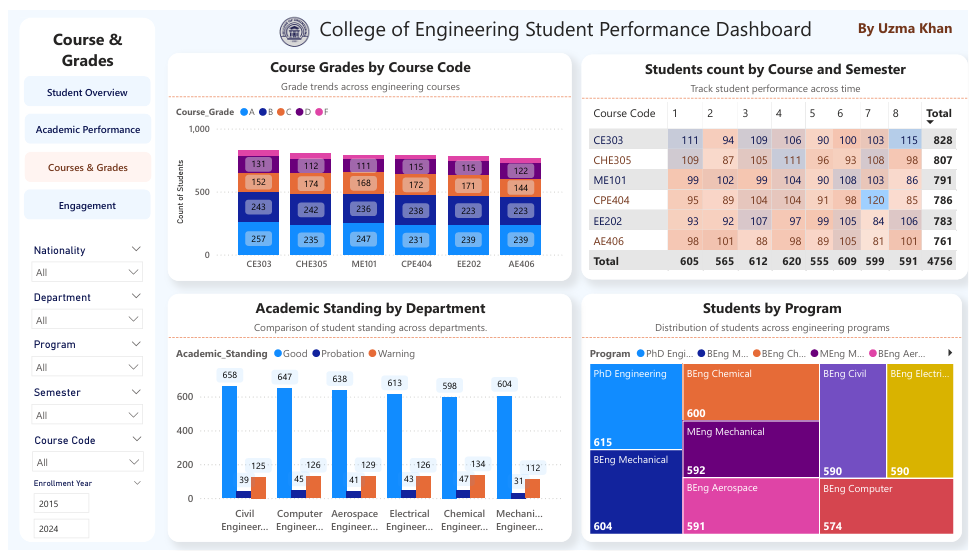

The page's visual inventory and layout, read from the dashboard file:
{"tool":"powerbi","page":{"name":"Courses & Grades","canvas":[1280,720],"ordinal":3},"visuals":[{"type":"shape","box":[13.8,8.8,181.2,698.8],"z":0},{"type":"textbox","box":[212.5,0,1060,57.5],"z":1000},{"type":"image","box":[352.2,0,57.8,55.6],"z":2000},{"type":"textbox","box":[26.7,17.8,156.7,113.3],"z":3000},{"type":"columnChart","title":"Course Grades by Course Code","fields":{"Category":["College_of_Engineering_Student_Dataset v2.Course_Code"],"Y":["CountNonNull(College_of_Engineering_Student_Dataset v2.Student_ID)"],"Series":["College_of_Engineering_Student_Dataset v2.Course_Grade"]},"box":[212.2,55.6,538.9,304.4],"z":4000},{"type":"treemap","title":"Students by Program","fields":{"Group":["College_of_Engineering_Student_Dataset v2.Program"],"Values":["CountNonNull(College_of_Engineering_Student_Dataset v2.Student_ID)"]},"box":[764.4,376.7,507.8,331.1],"z":5000},{"type":"pivotTable","title":"Students count by Course and Semester","fields":{"Rows":["College_of_Engineering_Student_Dataset v2.Course_Code"],"Values":["CountNonNull(College_of_Engineering_Student_Dataset v2.Student_ID)"],"Columns":["College_of_Engineering_Student_Dataset v2.Semester"]},"box":[764.4,57.8,515.6,300],"z":6000},{"type":"clusteredColumnChart","title":"Academic Standing by Department","fields":{"Category":["College_of_Engineering_Student_Dataset v2.Department"],"Y":["CountNonNull(College_of_Engineering_Student_Dataset v2.Student_ID)"],"Series":["College_of_Engineering_Student_Dataset v2.Academic_Standing"]},"box":[212.2,376.7,538.9,331.1],"z":7000},{"type":"actionButton","box":[20,86.7,168.9,40],"z":8000},{"type":"actionButton","box":[21.1,136.7,168.9,40],"z":9000},{"type":"actionButton","box":[21.1,187.8,168.9,40],"z":10000},{"type":"actionButton","box":[20,237.8,168.9,40],"z":11000},{"type":"slicer","fields":{"Values":["College_of_Engineering_Student_Dataset v2.Nationality"]},"box":[20,305.6,168.9,63.3],"z":12000},{"type":"slicer","fields":{"Values":["College_of_Engineering_Student_Dataset v2.Department"]},"box":[20,368.9,168.9,63.3],"z":13000},{"type":"slicer","fields":{"Values":["College_of_Engineering_Student_Dataset v2.Program"]},"box":[20,432.2,168.9,63.3],"z":14000},{"type":"slicer","fields":{"Values":["College_of_Engineering_Student_Dataset v2.Semester"]},"box":[20,495.6,168.9,63.3],"z":15000},{"type":"slicer","fields":{"Values":["College_of_Engineering_Student_Dataset v2.Course_Code"]},"box":[21.1,558.9,168.9,64.4],"z":16000},{"type":"slicer","fields":{"Values":["College_of_Engineering_Student_Dataset v2.Enrollment_Year"]},"box":[20,618.9,168.9,84.4],"z":17000},{"type":"textbox","box":[1117.8,4.4,156.7,47.8],"z":17001}]}

Visuals, with their boxes in screenshot pixels (x1, y1, x2, y2), scaled from the page's 1280x720 canvas onto the 979x556 screenshot:
shape: (x1=11, y1=7, x2=149, y2=546)
textbox: (x1=163, y1=0, x2=973, y2=44)
image: (x1=269, y1=0, x2=314, y2=43)
textbox: (x1=20, y1=14, x2=140, y2=101)
"Course Grades by Course Code" columnChart: (x1=162, y1=43, x2=574, y2=278)
"Students by Program" treemap: (x1=585, y1=291, x2=973, y2=547)
"Students count by Course and Semester" pivotTable: (x1=585, y1=45, x2=978, y2=276)
"Academic Standing by Department" clusteredColumnChart: (x1=162, y1=291, x2=574, y2=547)
actionButton: (x1=15, y1=67, x2=144, y2=98)
actionButton: (x1=16, y1=106, x2=145, y2=136)
actionButton: (x1=16, y1=145, x2=145, y2=176)
actionButton: (x1=15, y1=184, x2=144, y2=215)
slicer - College_of_Engineering_Student_Dataset v2.Nationality: (x1=15, y1=236, x2=144, y2=285)
slicer - College_of_Engineering_Student_Dataset v2.Department: (x1=15, y1=285, x2=144, y2=334)
slicer - College_of_Engineering_Student_Dataset v2.Program: (x1=15, y1=334, x2=144, y2=383)
slicer - College_of_Engineering_Student_Dataset v2.Semester: (x1=15, y1=383, x2=144, y2=432)
slicer - College_of_Engineering_Student_Dataset v2.Course_Code: (x1=16, y1=432, x2=145, y2=481)
slicer - College_of_Engineering_Student_Dataset v2.Enrollment_Year: (x1=15, y1=478, x2=144, y2=543)
textbox: (x1=855, y1=3, x2=975, y2=40)
